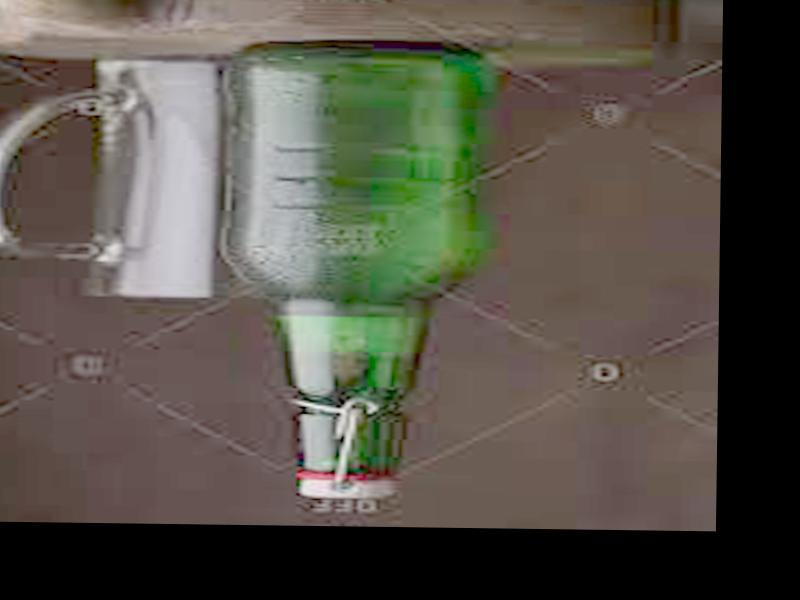Beer: (226, 39, 485, 499)
